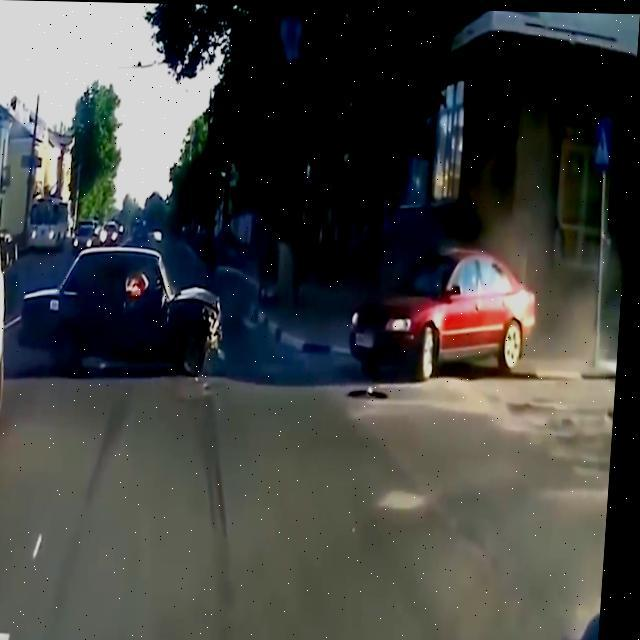multiple_accident: (38, 208, 547, 402)
